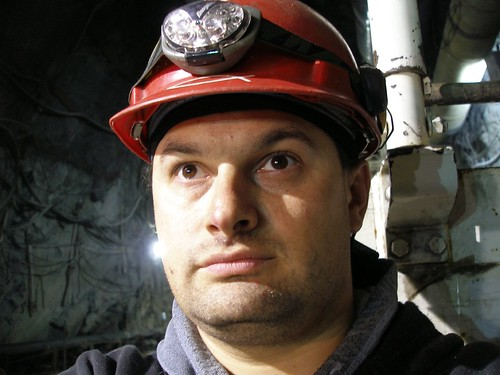person hardhat: (100, 1, 470, 373)
